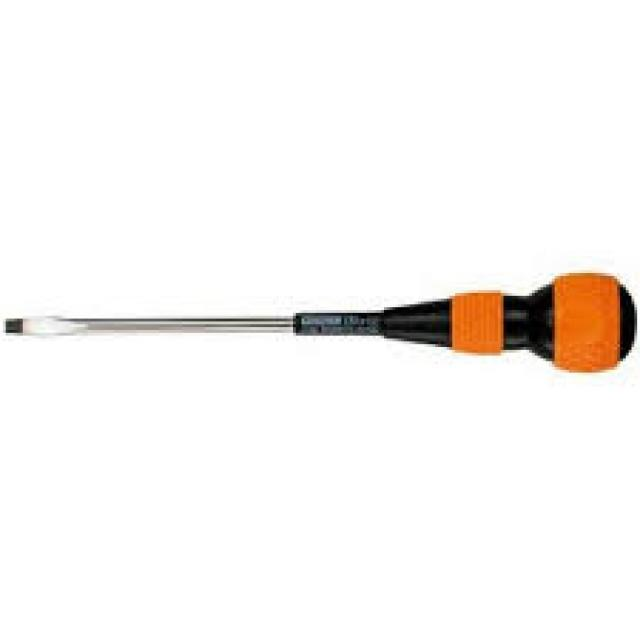screwdriver: (0, 270, 640, 373)
